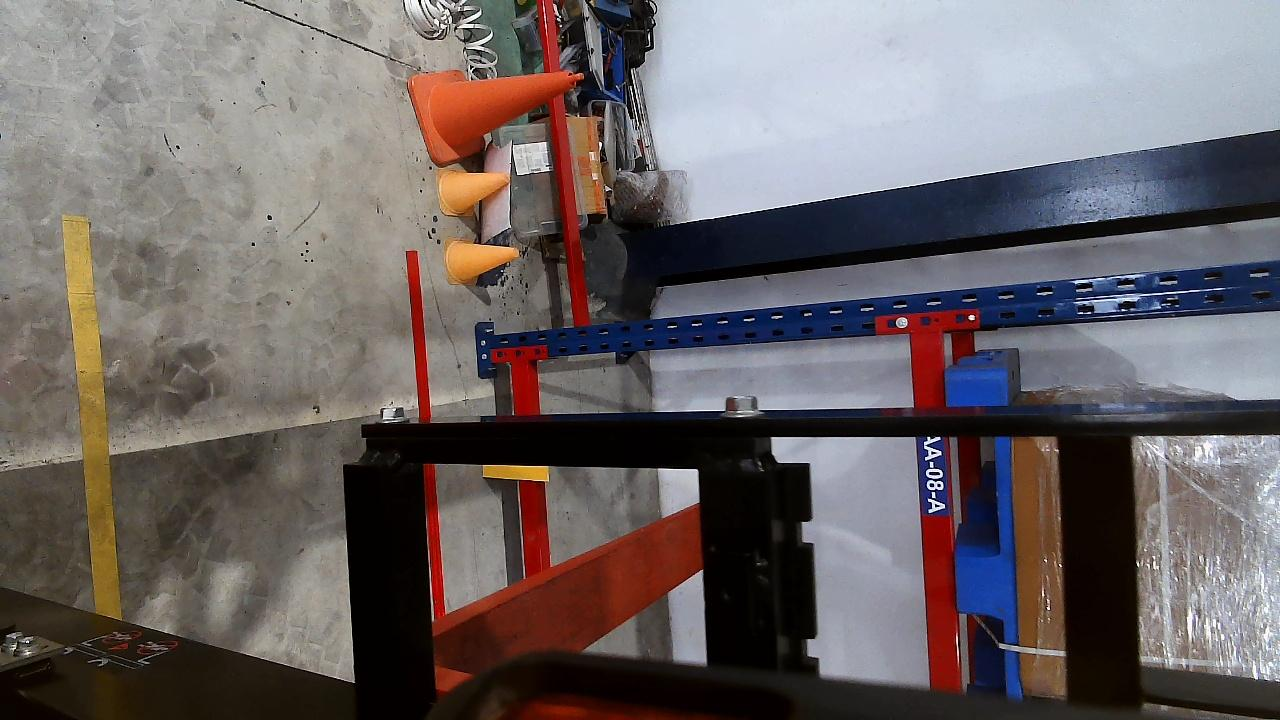h_rack: (912, 330, 944, 686), (506, 360, 546, 562)
orange_strip: (482, 466, 548, 480)
red_line: (405, 250, 449, 616)
small_pallet: (947, 363, 1016, 690)
yellow_line: (59, 213, 120, 618)
